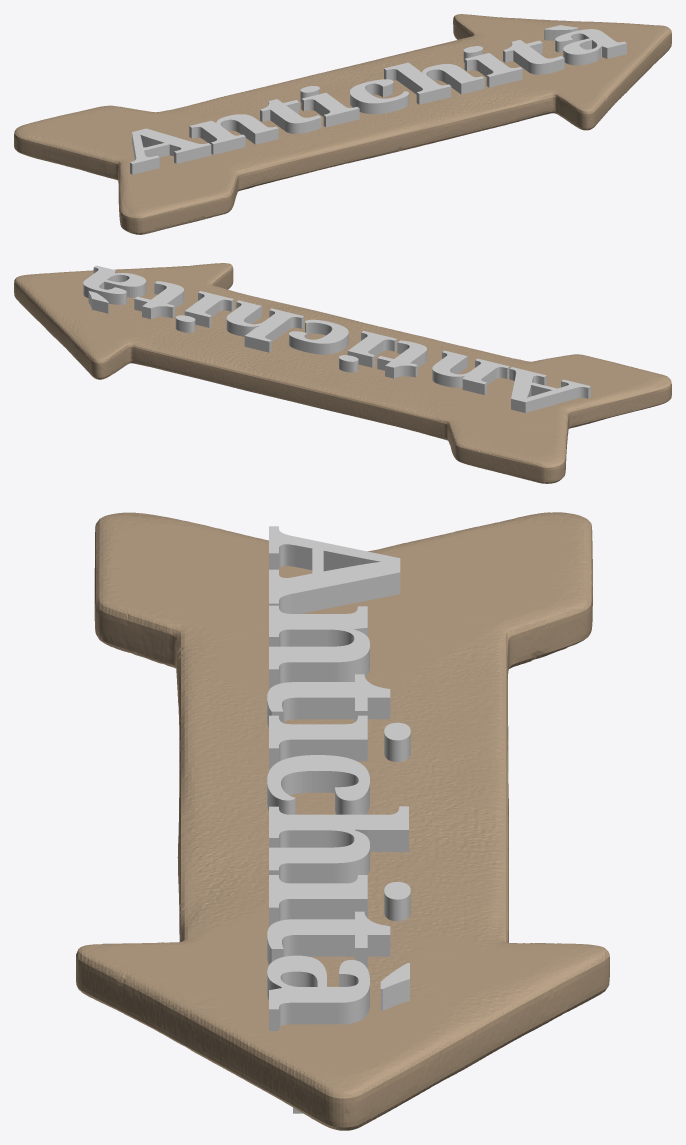
Rendered from Cartello Antichità.glb.
3 views of the same model, one above another, from view 1: azimuth 30°, elevation 25°; view 2: azimuth 150°, elevation 25°; view 3: azimuth 270°, elevation 25° (orthographic). The views are drawn at different scales.
Parts seen in each view (by area): view 1: Mesh_Mesh_head_geo.001_lambert2SG.001; view 2: Mesh_Mesh_head_geo.001_lambert2SG.001; view 3: Mesh_Mesh_head_geo.001_lambert2SG.001.
Boxes of the visible parts, x1,y1,x2,y2 form: Mesh_Mesh_head_geo.001_lambert2SG.001: (14,14,671,234); Mesh_Mesh_head_geo.001_lambert2SG.001: (14,263,671,483); Mesh_Mesh_head_geo.001_lambert2SG.001: (76,512,609,1130).
Bounding box in the file's own units: 0.058 × 0.004 × 0.0223.
